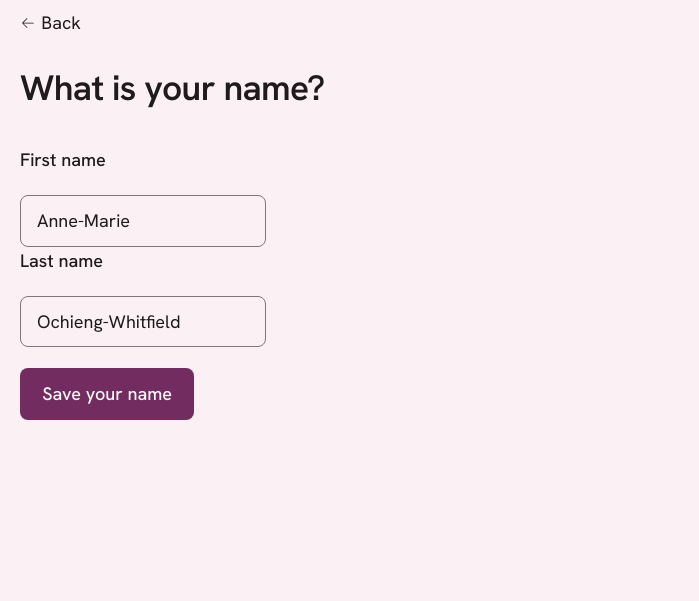
the name question › owns a save that never reached the server at all
Click the button "Save your name" at (107,394), box [20, 368, 194, 420]
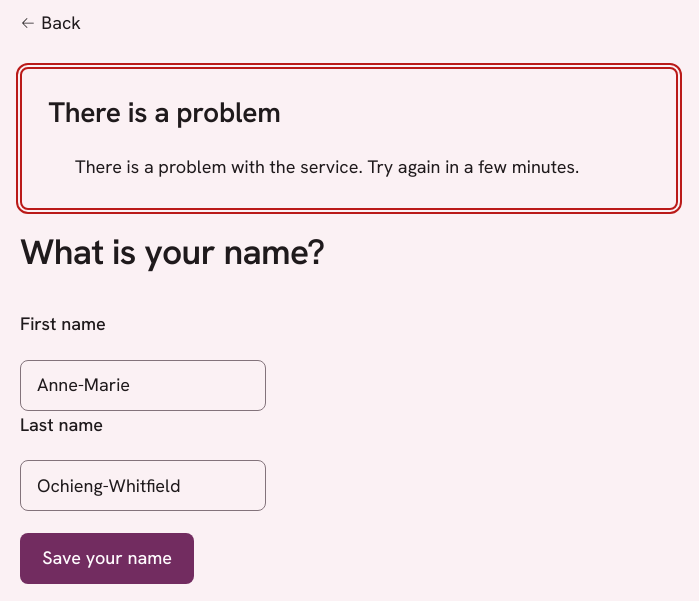
Expected: the message shows "There is a problem with the service. Try again in a few minutes.", [75, 155, 579, 178]
